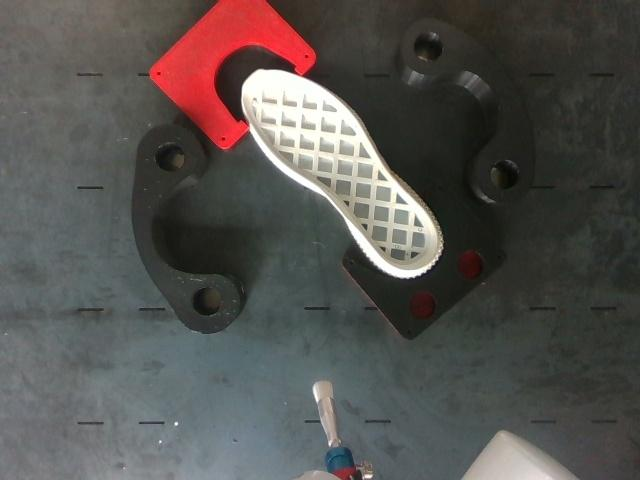shoes: (243, 71, 440, 272)
